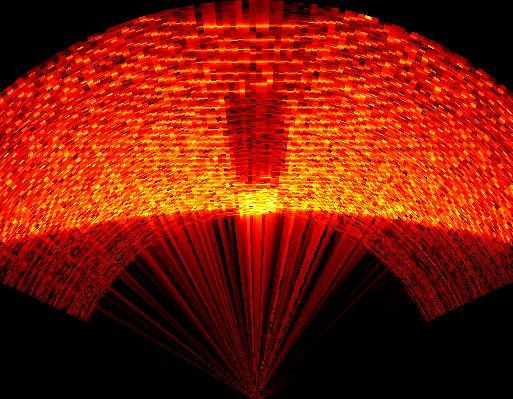box_crate: (220, 87, 292, 212)
